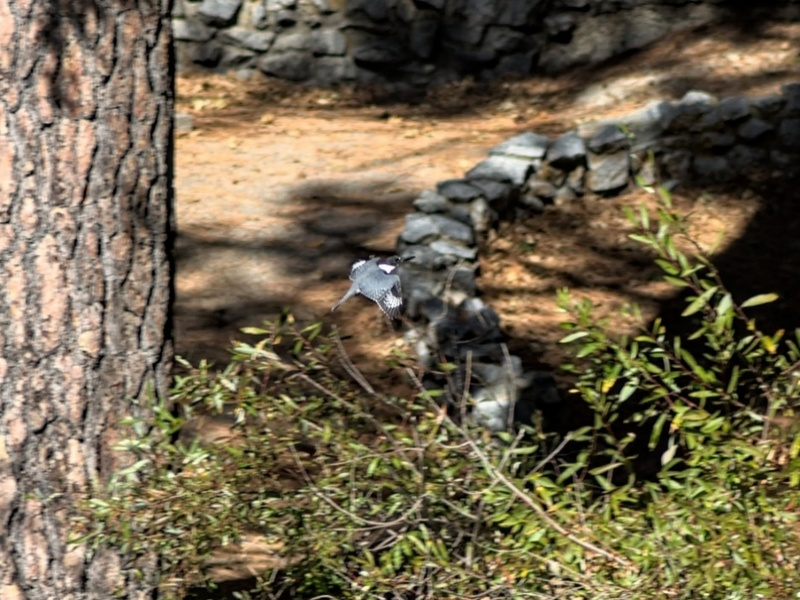kingfisher: (333, 250, 415, 317)
